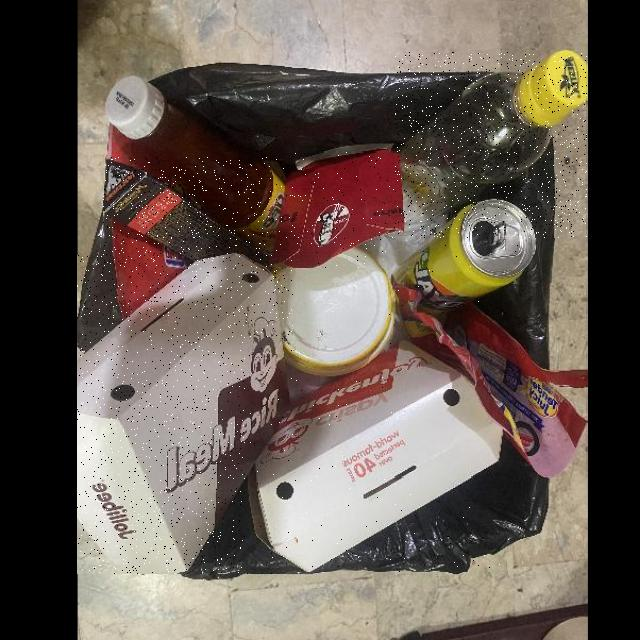metal: (389, 203, 534, 314)
paper: (77, 255, 293, 573), (245, 340, 505, 571), (103, 157, 271, 268), (273, 152, 407, 267)
plastic: (396, 52, 587, 238)
wrapper: (394, 283, 587, 477)
